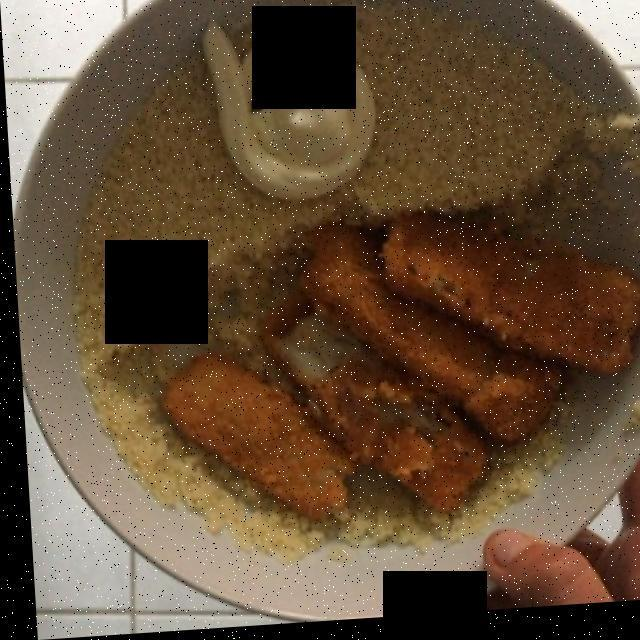couscous: (70, 1, 624, 366)
fish: (150, 232, 640, 534)
mayonnaise: (195, 34, 368, 204)
